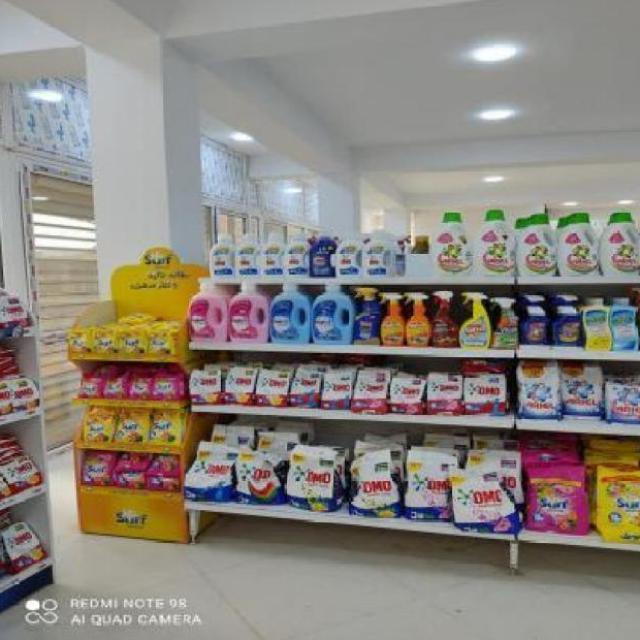Detergent: (467, 197, 521, 277), (554, 209, 605, 277), (429, 205, 475, 277), (513, 361, 564, 422), (515, 206, 558, 276), (600, 205, 640, 277), (564, 364, 608, 422), (605, 373, 640, 427)
